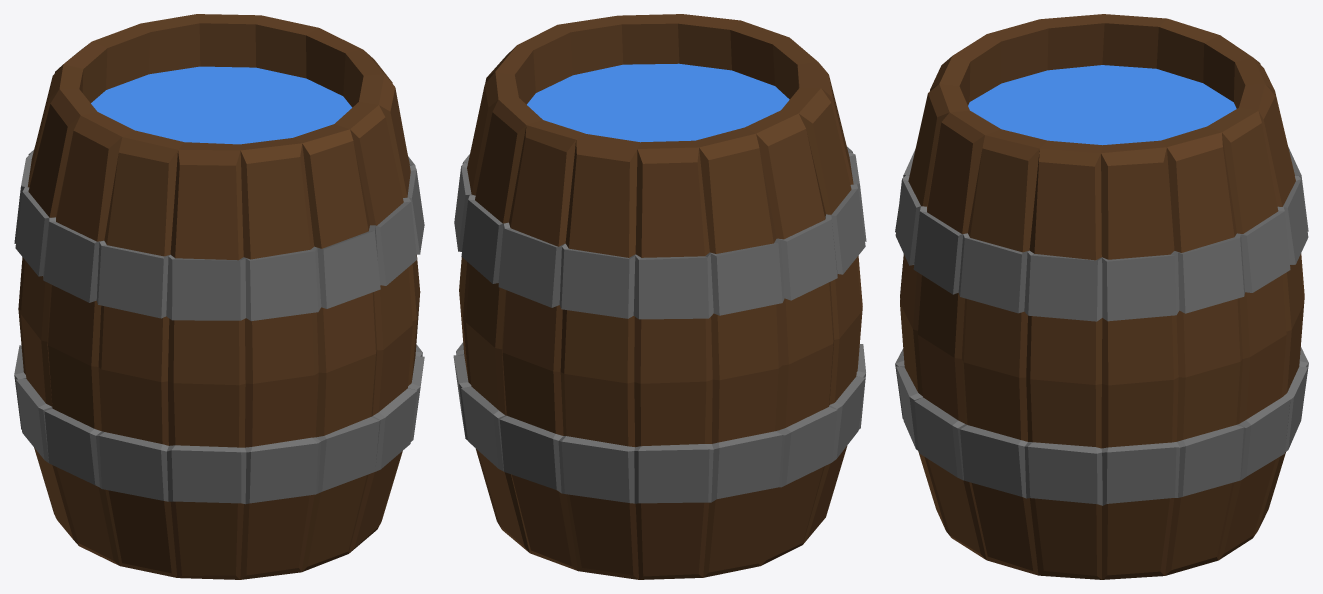
File: Barrel3.glb
3 views of the same model, side by side, from view 1: azimuth 30°, elevation 25°; view 2: azimuth 150°, elevation 25°; view 3: azimuth 270°, elevation 25° (orthographic).
Visible parts, largest first — view 1: Simple_barrel; view 2: Simple_barrel; view 3: Simple_barrel.
Part boxes in pixels (bbox=[...]): Simple_barrel: bbox=[14, 14, 424, 579]; Simple_barrel: bbox=[453, 14, 866, 579]; Simple_barrel: bbox=[895, 14, 1308, 579].
Size of the model in its own units: 1 by 1.15 by 1.
